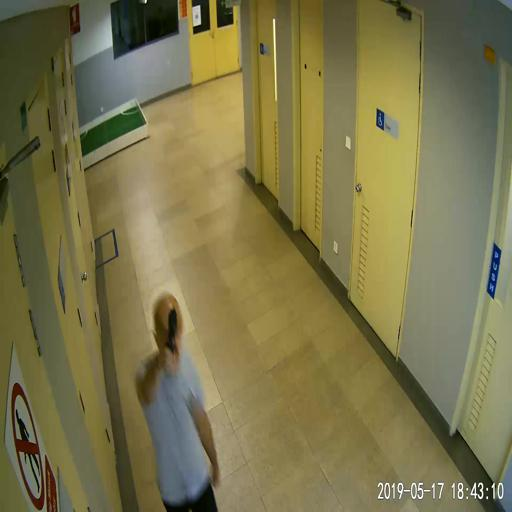pistol: (164, 307, 178, 365)
